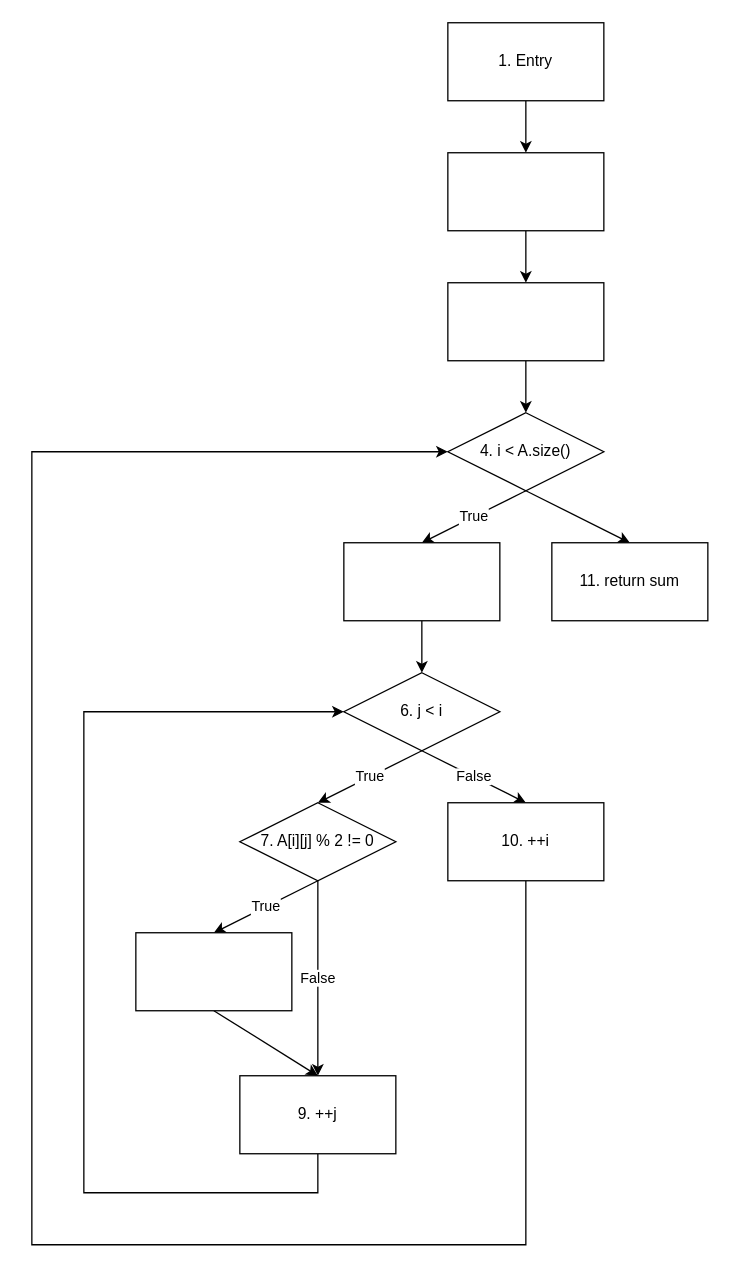
Some shapes in this 731 by 1278 pixel diagram are drawn without their labels. Each missing label, with the centre of its shape:
"2. sum = 0" belongs at (x=525, y=191).
"3. i = 0" belongs at (x=525, y=321).
"5. j = 0" belongs at (x=421, y=581).
"8. sum += A[i][j]" belongs at (x=213, y=971).
